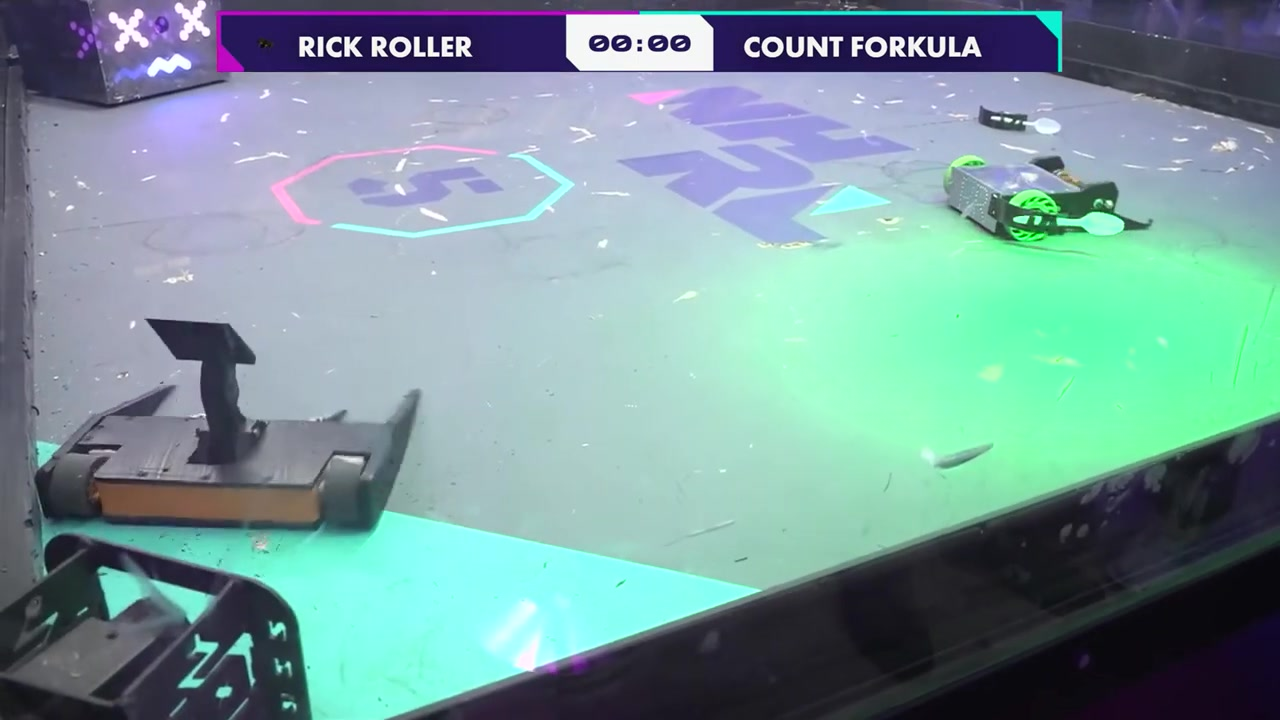combatbot: (38, 315, 423, 532), (940, 153, 1153, 247)
debris: (980, 105, 1062, 140)
housebot: (7, 2, 242, 105)
